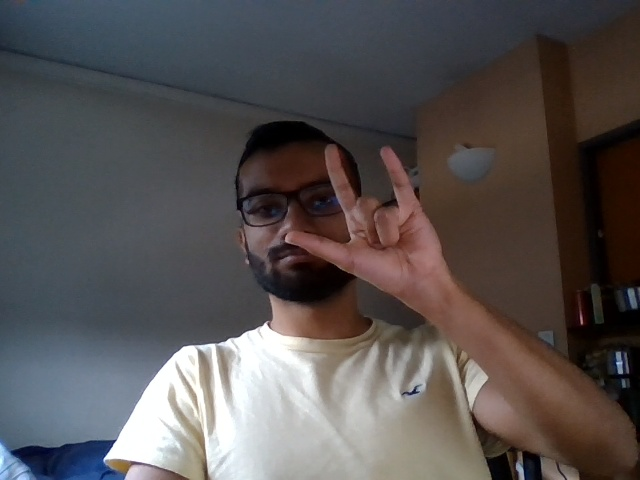I Love You: (266, 135, 458, 292)
